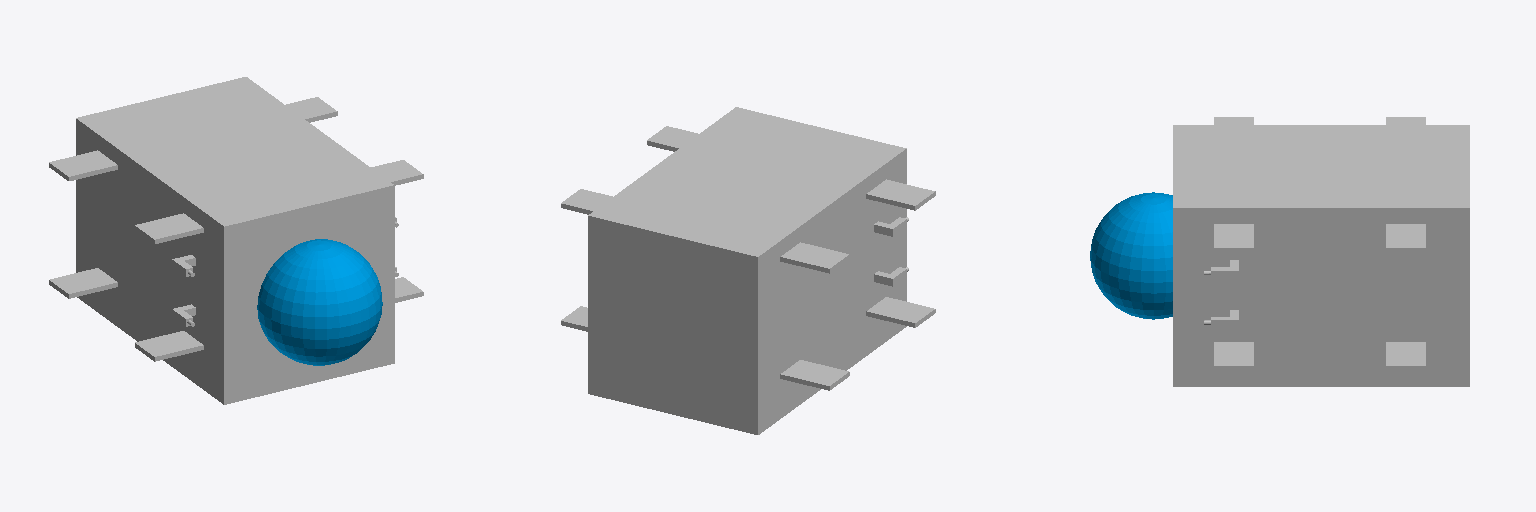
The picture shows the model from 3 angles: view 1: azimuth 30°, elevation 25°; view 2: azimuth 150°, elevation 25°; view 3: azimuth 270°, elevation 25°; orthographic projection.
Visible parts, largest first — view 1: 球_球.001; view 2: 球_球.001; view 3: 球_球.001.
Part boxes in pixels (x1,y1,x2,y2): 球_球.001: (49, 77, 423, 404); 球_球.001: (561, 107, 935, 434); 球_球.001: (1090, 117, 1469, 386).
Size of the model in its own units: 6.57 by 4.16 by 8.04.
4 materials, 1 textured.